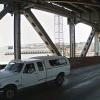Car: (9, 43, 70, 98)
